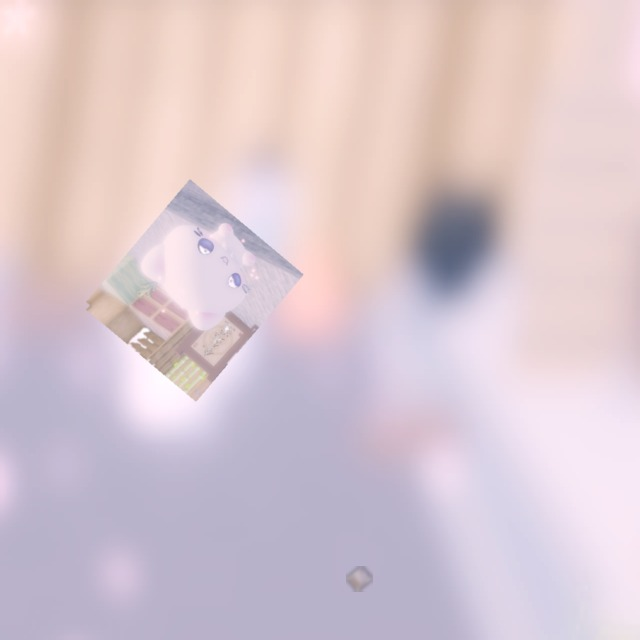urso_branco: (82, 179, 304, 402), (346, 566, 373, 592)
